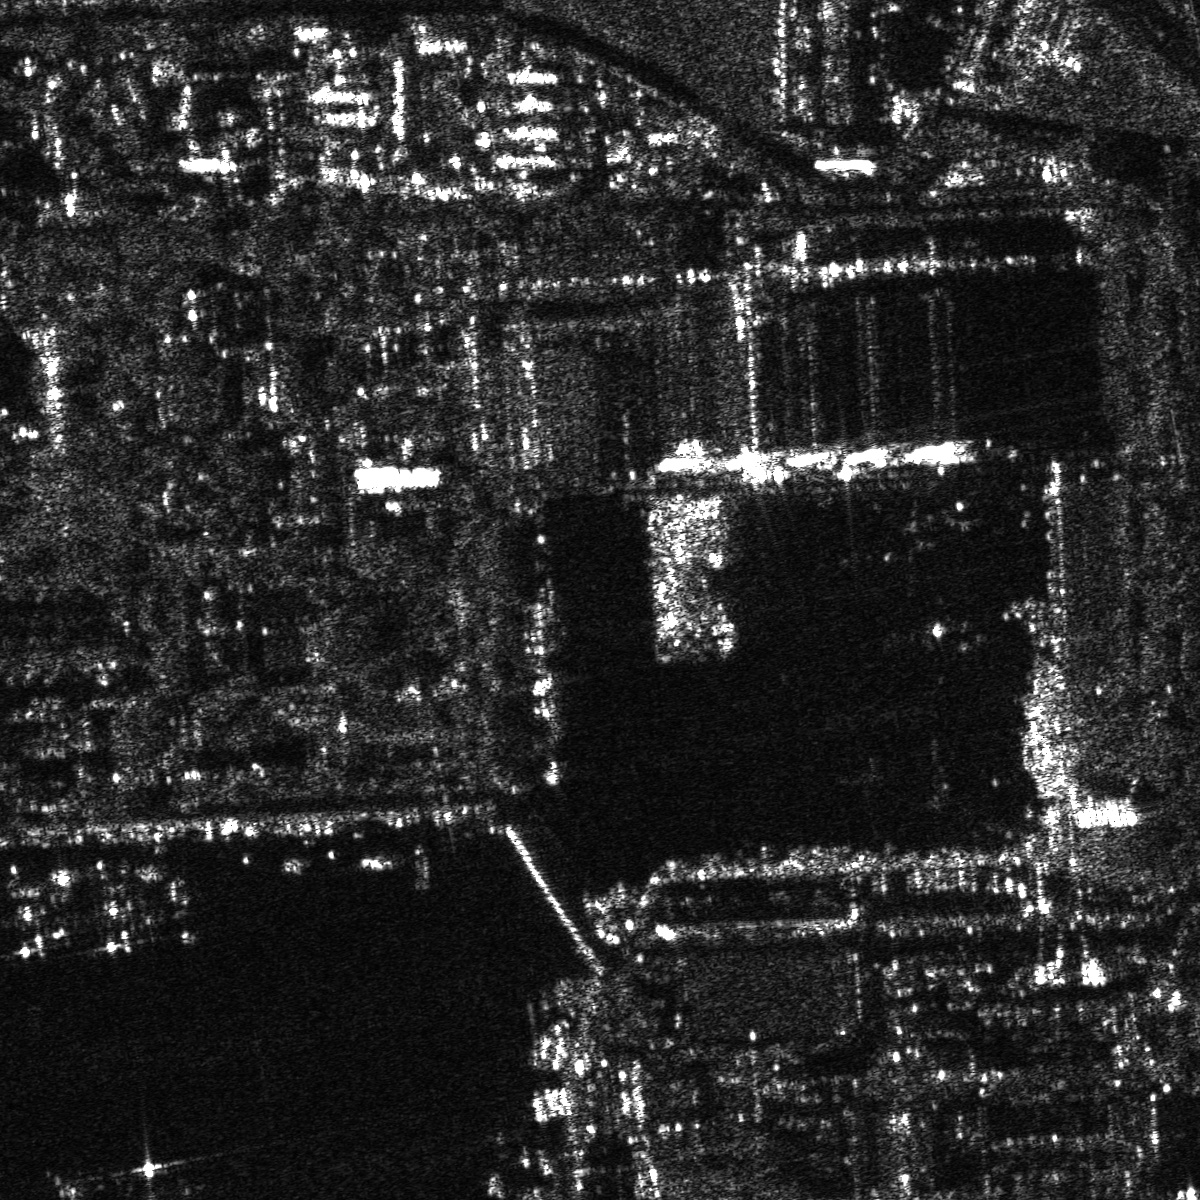ARJ21: (157, 863, 200, 945)
other: (881, 488, 989, 558), (89, 873, 155, 955), (47, 1174, 95, 1199)
